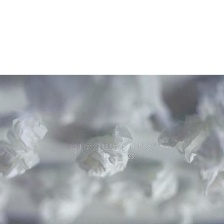tissue: (150, 106, 223, 200), (0, 107, 52, 185), (69, 125, 137, 182)
